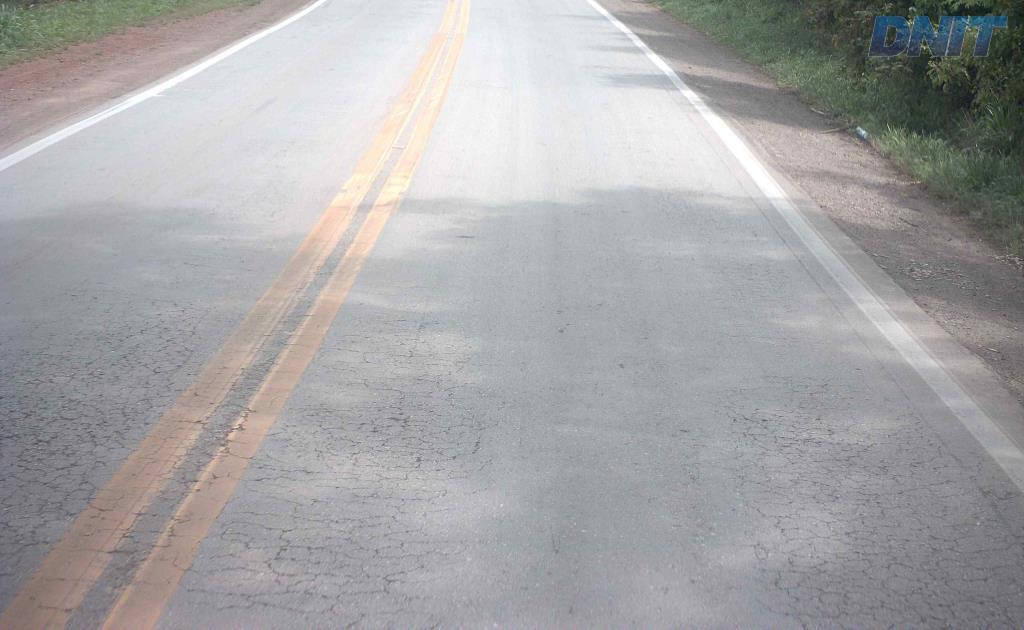crack: (273, 527, 338, 560)
